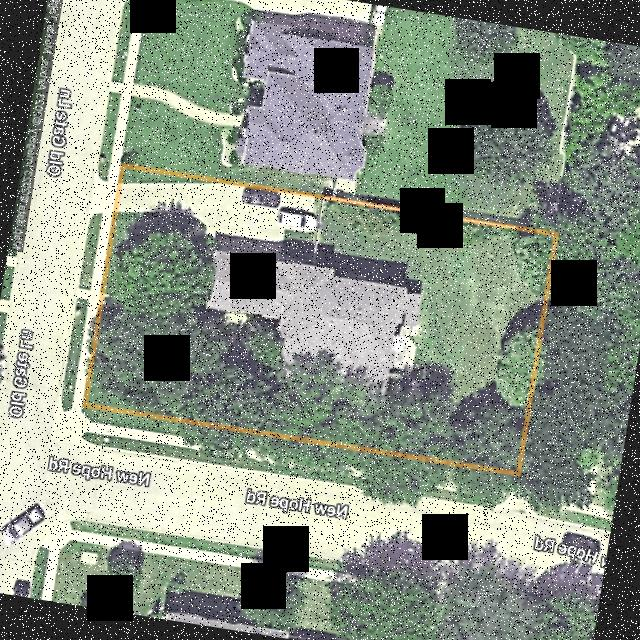Driveway: (117, 183, 322, 259)
Extra Driveway: (89, 171, 116, 220)
Extra Lawn: (79, 432, 507, 508), (61, 299, 87, 411), (82, 408, 183, 436), (78, 213, 101, 290), (97, 161, 109, 181)
Extra Sidewalk: (62, 213, 204, 451), (241, 448, 275, 463), (107, 162, 120, 182), (76, 288, 89, 300), (347, 466, 361, 476)
House: (206, 254, 421, 399)
Other: (390, 325, 419, 371), (224, 312, 247, 324)
